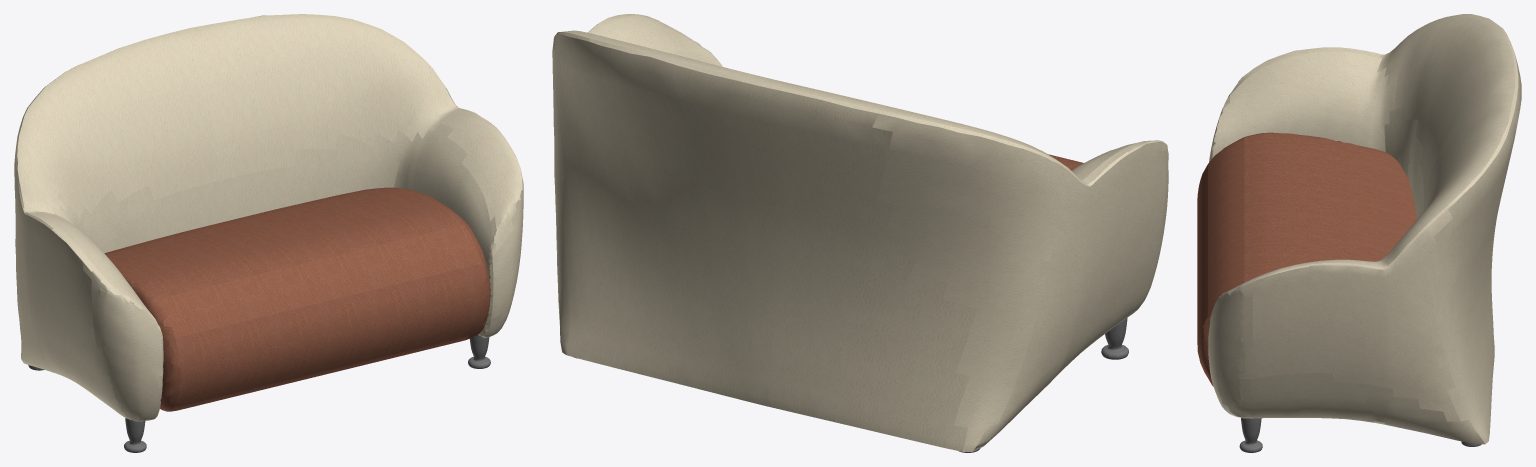
File: 19099_Sweet_Sofa.fbx
The picture shows the model from 3 angles, left to right: view 1: azimuth 30°, elevation 25°; view 2: azimuth 150°, elevation 25°; view 3: azimuth 270°, elevation 25°; orthographic projection. The views are drawn at different scales.
Visible parts, largest first — view 1: divan07_sp, divan07_si, divan07_n1; view 2: divan07_sp, divan07_n1; view 3: divan07_sp, divan07_si, divan07_n1.
Part boxes in pixels (x1,y1,x2,y2): divan07_sp: (14,14,523,421); divan07_si: (104,187,490,411); divan07_n1: (124,335,490,452); divan07_sp: (552,14,1168,451); divan07_n1: (1101,317,1128,359); divan07_sp: (1208,14,1521,444); divan07_si: (1197,132,1416,386); divan07_n1: (1239,418,1262,452).
Size of the model in its own units: 342 by 208 by 215.
